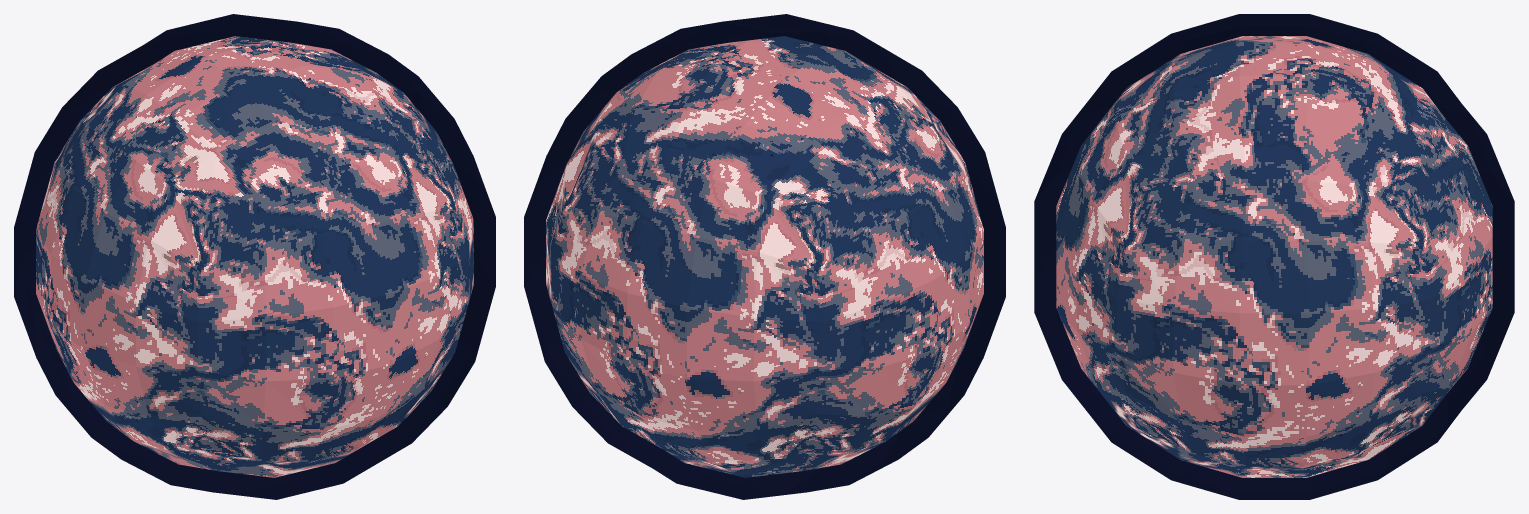
File: planet1_compressed.glb
3 renders of one model, left to right at view 1: azimuth 30°, elevation 25°; view 2: azimuth 150°, elevation 25°; view 3: azimuth 270°, elevation 25°, orthographic.
Bounding box in the file's own units: 3.7 × 3.7 × 3.7.
Materials: 1 (1 with a texture image).
